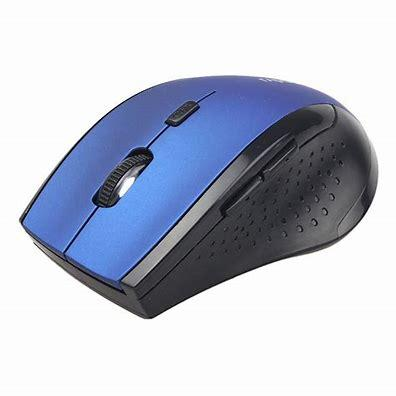computer mouse: (19, 74, 379, 321)
